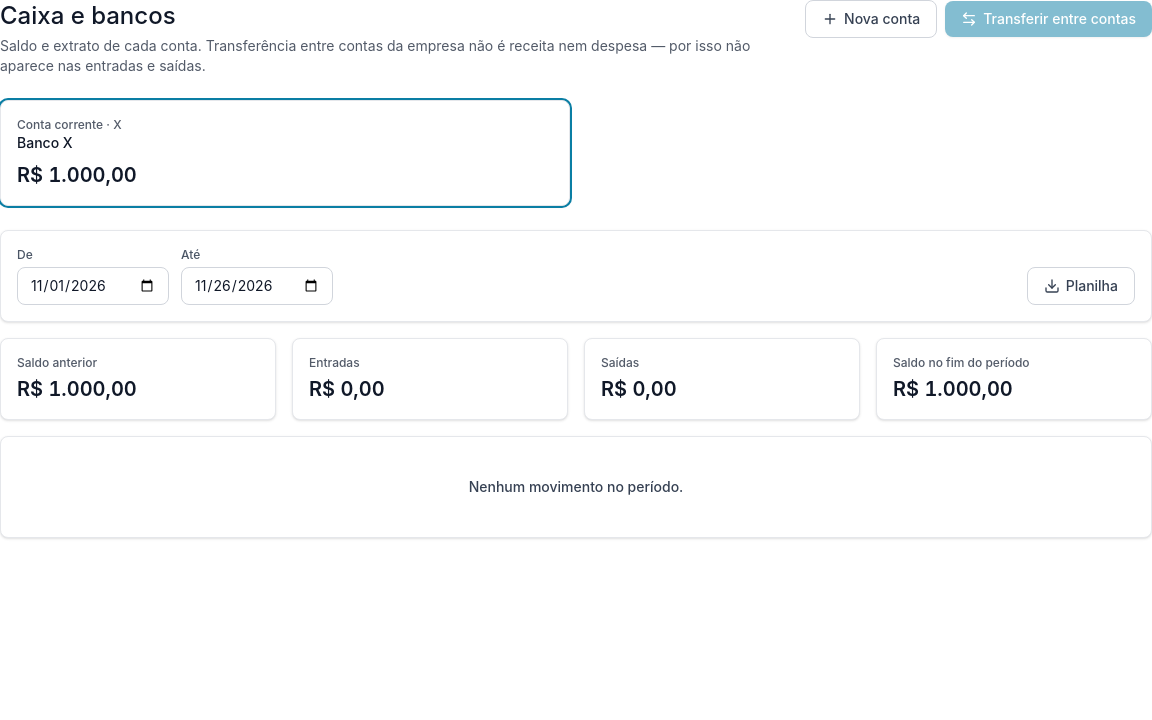
Caixa e bancos › nova conta: cria, avisa e busca de novo as contas e o extrato, que passam a mostrar a conta nova
Expected: the button "Conta corrente · X Banco X R$ 1.000,00" is shown, [0,100,570,206]
Click the button "Nova conta". click: (871, 19)
box: [805,0,937,38]
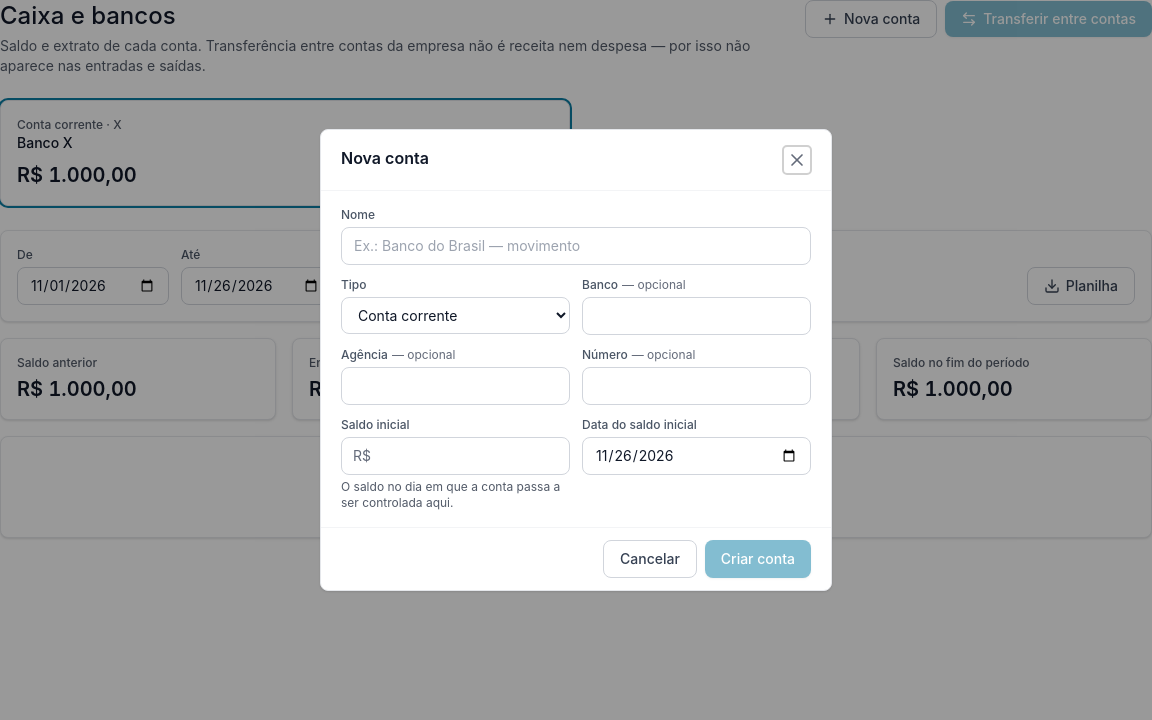
Now the button "Criar conta" is disabled, box [705,540,811,578]
Type "Reserva" into the field labelled "Nome". click: (576, 246)
box: [341,227,811,265]
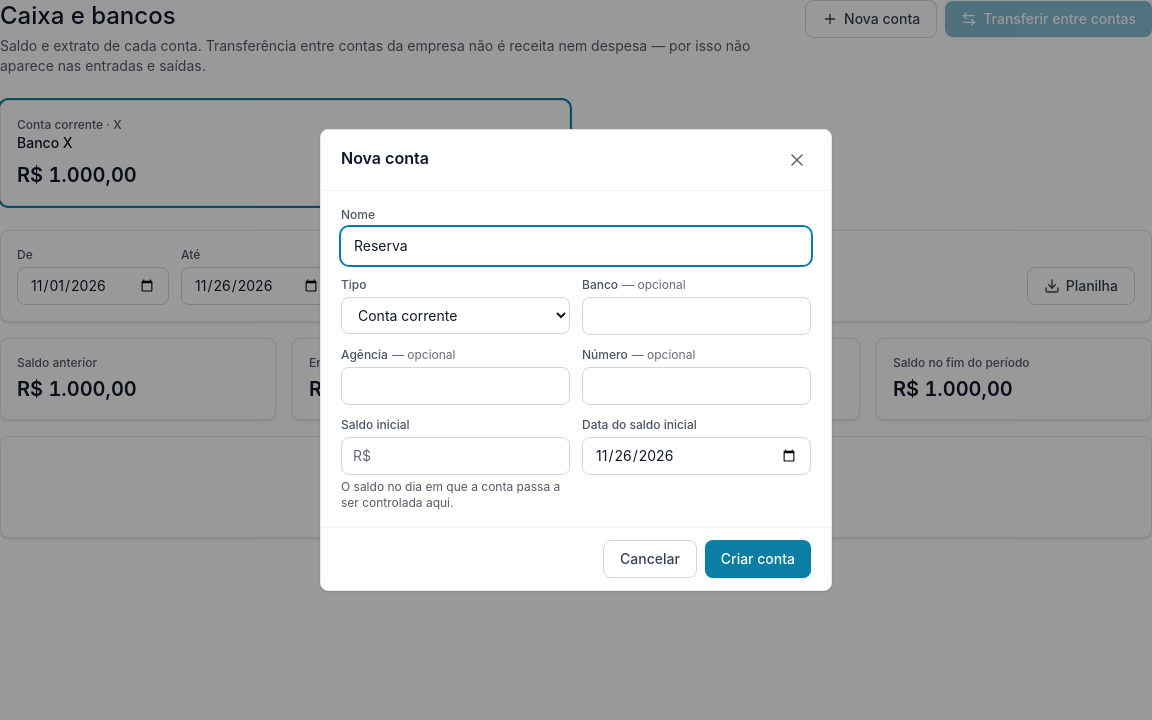
Click the button "Criar conta". click: (758, 559)
box: [705,540,811,578]
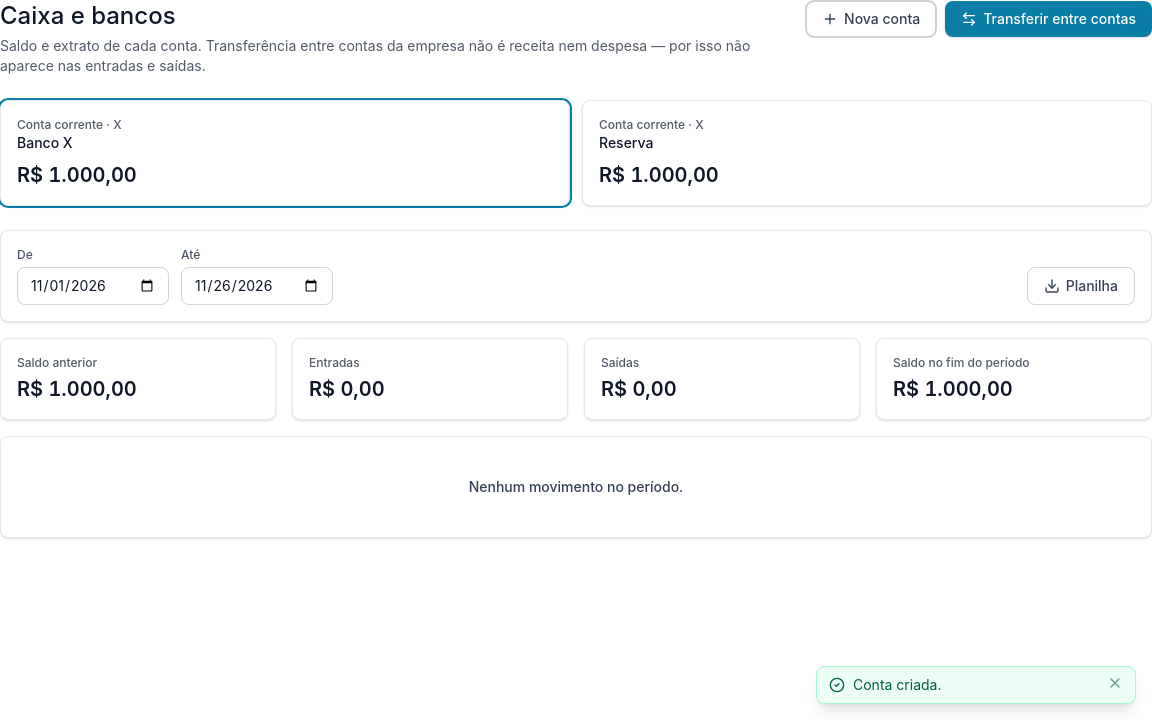
Now the text "Conta criada." is shown, box [853,676,942,693]
Now the button "Conta corrente · X Reserva R$ 1.000,00" is shown, box [582,100,1151,206]
